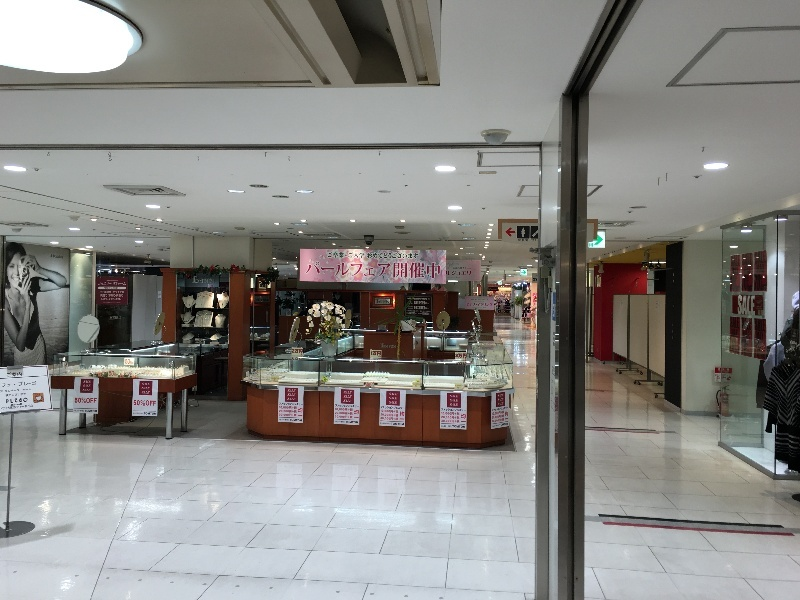text: (737, 250, 752, 292), (753, 250, 765, 292), (737, 293, 752, 317), (321, 262, 336, 280), (337, 262, 352, 280), (353, 262, 368, 280), (369, 262, 384, 280), (385, 262, 400, 280), (401, 262, 416, 280), (417, 262, 432, 280), (308, 262, 320, 280), (731, 250, 736, 292), (83, 380, 96, 393), (433, 262, 442, 280), (354, 409, 368, 419), (193, 276, 208, 285), (337, 252, 352, 260), (353, 252, 368, 260), (369, 252, 384, 260), (385, 252, 400, 260), (401, 252, 416, 260), (81, 397, 96, 405), (1, 381, 16, 389), (17, 381, 32, 389), (753, 293, 758, 317), (370, 350, 384, 357), (553, 304, 560, 318), (385, 342, 397, 350), (451, 270, 464, 277), (465, 270, 478, 277), (1, 404, 16, 410), (17, 404, 32, 410), (145, 381, 151, 395), (337, 415, 353, 420), (17, 388, 33, 393), (145, 400, 156, 407), (327, 252, 336, 260), (292, 348, 304, 354), (408, 301, 416, 310), (505, 411, 512, 421), (385, 409, 399, 414), (385, 413, 399, 418), (134, 400, 144, 407), (417, 310, 431, 315), (5, 398, 16, 404), (17, 398, 28, 404), (337, 408, 353, 412), (337, 412, 353, 416), (209, 276, 216, 285), (7, 371, 16, 378), (337, 404, 352, 408), (385, 406, 400, 410), (4, 388, 16, 393), (449, 266, 464, 270), (290, 418, 304, 422), (385, 417, 399, 421), (113, 282, 127, 286), (498, 394, 512, 398), (498, 398, 512, 402), (498, 402, 512, 406), (497, 407, 508, 412), (5, 393, 16, 398), (533, 277, 544, 282), (455, 353, 464, 359), (375, 299, 384, 305), (721, 368, 730, 374), (99, 282, 112, 286), (467, 303, 480, 307), (51, 254, 64, 258), (299, 407, 304, 417), (518, 238, 528, 243), (54, 255, 64, 260), (452, 425, 464, 429), (145, 412, 157, 416), (100, 291, 112, 295), (113, 291, 125, 295), (449, 409, 464, 412), (113, 316, 122, 321), (17, 393, 26, 398), (407, 310, 416, 315), (449, 416, 460, 420), (133, 411, 144, 415), (101, 294, 112, 298), (113, 294, 124, 298), (101, 298, 112, 302), (481, 303, 492, 307), (289, 403, 303, 406), (17, 371, 23, 378), (417, 298, 431, 301), (450, 399, 464, 402), (401, 411, 405, 421), (497, 411, 505, 416), (497, 415, 505, 420), (497, 418, 505, 423), (75, 397, 80, 405), (379, 342, 384, 350), (531, 239, 544, 242), (451, 395, 464, 398), (451, 403, 464, 406), (391, 422, 400, 426), (500, 423, 512, 426), (279, 413, 288, 417), (113, 371, 119, 377), (113, 298, 122, 302), (129, 358, 134, 365), (449, 413, 460, 416), (449, 420, 460, 423), (85, 410, 96, 413), (293, 358, 304, 361), (289, 413, 297, 417), (417, 301, 425, 305), (104, 287, 112, 291), (113, 287, 121, 291), (33, 381, 37, 389), (344, 395, 352, 399), (385, 299, 390, 305), (390, 393, 400, 396), (390, 397, 400, 400), (390, 401, 400, 404), (441, 416, 448, 420), (142, 381, 144, 395), (289, 389, 296, 393), (289, 397, 296, 401), (461, 414, 464, 423), (279, 403, 288, 406), (279, 418, 288, 421), (279, 406, 288, 409), (279, 410, 288, 413), (289, 410, 298, 413), (407, 298, 416, 301), (353, 404, 359, 408), (337, 420, 345, 423), (289, 406, 297, 409), (74, 409, 80, 413), (488, 288, 496, 291), (344, 391, 352, 394), (344, 400, 352, 403), (289, 394, 296, 397), (492, 407, 496, 412), (492, 411, 496, 416), (492, 415, 496, 420), (492, 418, 496, 423), (465, 353, 468, 359), (346, 421, 352, 424), (353, 421, 359, 424), (442, 409, 448, 412), (442, 413, 448, 416), (442, 420, 448, 423), (109, 371, 112, 377), (106, 279, 112, 282), (103, 302, 112, 304), (426, 302, 432, 305), (471, 299, 480, 301), (417, 252, 419, 260), (401, 406, 405, 410), (81, 409, 85, 413), (113, 302, 121, 304), (381, 409, 384, 414), (381, 413, 384, 418), (109, 316, 112, 321), (113, 279, 118, 282), (441, 425, 448, 427), (417, 307, 424, 309), (126, 358, 128, 365), (425, 308, 432, 310), (481, 299, 488, 301), (401, 422, 404, 426), (381, 406, 384, 410), (492, 425, 496, 428), (381, 417, 384, 421), (33, 404, 35, 410), (465, 266, 468, 270), (718, 368, 720, 374), (385, 423, 390, 425), (446, 271, 448, 276), (449, 271, 451, 276), (465, 414, 466, 423), (497, 425, 500, 428), (380, 423, 384, 425), (414, 301, 416, 305), (97, 397, 98, 405), (334, 420, 336, 423), (449, 425, 452, 427), (335, 415, 336, 420), (465, 425, 466, 429), (335, 404, 336, 408), (335, 408, 336, 412), (335, 412, 336, 416), (414, 307, 416, 309), (447, 266, 448, 270), (465, 409, 466, 412), (97, 410, 98, 413), (497, 288, 498, 291)
